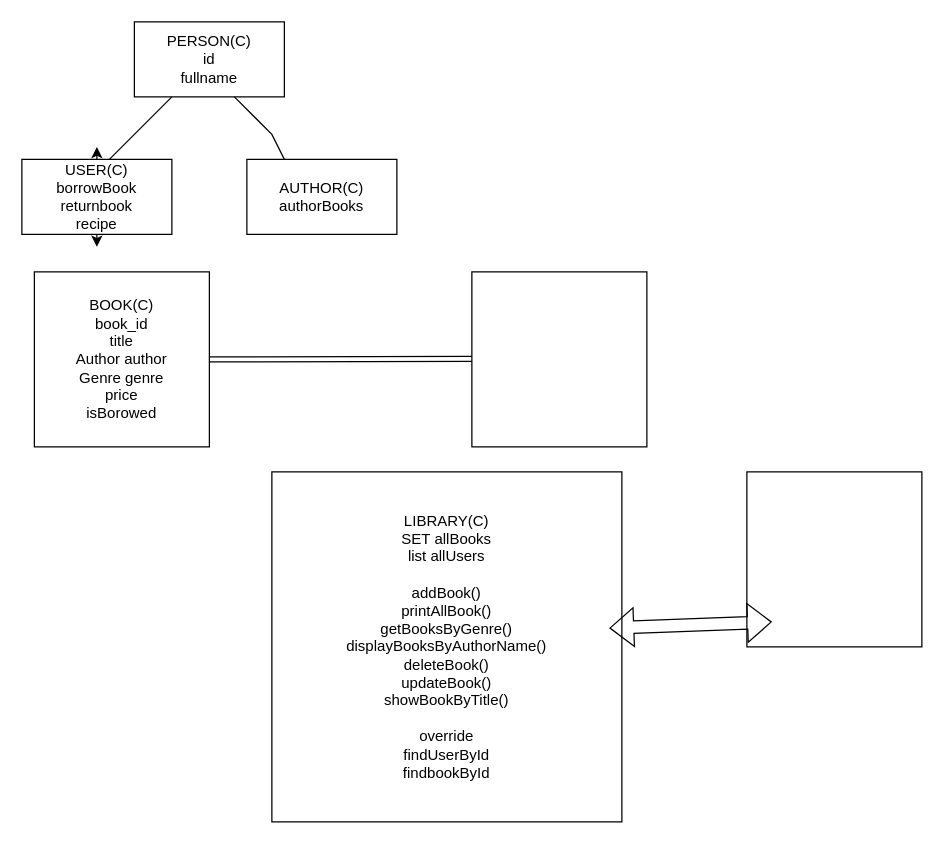
The diagram is 944 pixels wide and 844 high, and some of its shapes have lost their labels. Each missing label, with the box of its shape:
GENRE(E) enums: (471, 271, 647, 447)
LIBRARYITEMS(I) findUserById findBookById: (746, 471, 922, 647)
